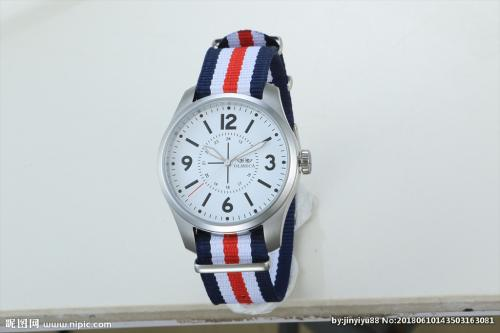watch: (157, 23, 317, 315)
